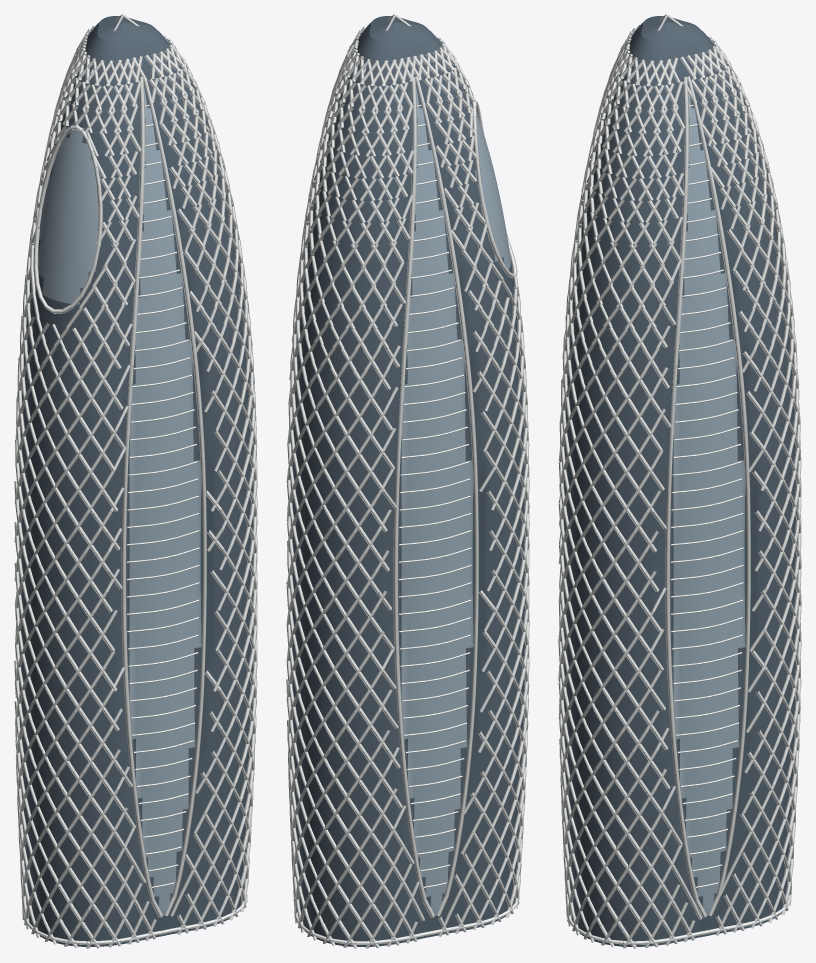
File: tokyo-mode-gakuen-cocoon-tower.detail.glb
3 renders of one model, left to right at view 1: azimuth 30°, elevation 25°; view 2: azimuth 150°, elevation 25°; view 3: azimuth 270°, elevation 25°, orthographic.
Visible parts, largest first — view 1: Mode Gakuen Cocoon Tower; view 2: Mode Gakuen Cocoon Tower; view 3: Mode Gakuen Cocoon Tower.
Boxes of the visible parts, box(x1,y1,x2,y2) form: Mode Gakuen Cocoon Tower: box(14, 14, 257, 948); Mode Gakuen Cocoon Tower: box(286, 14, 529, 948); Mode Gakuen Cocoon Tower: box(558, 14, 801, 948).
Bounding box in the file's own units: 52.56 × 204 × 50.82.
